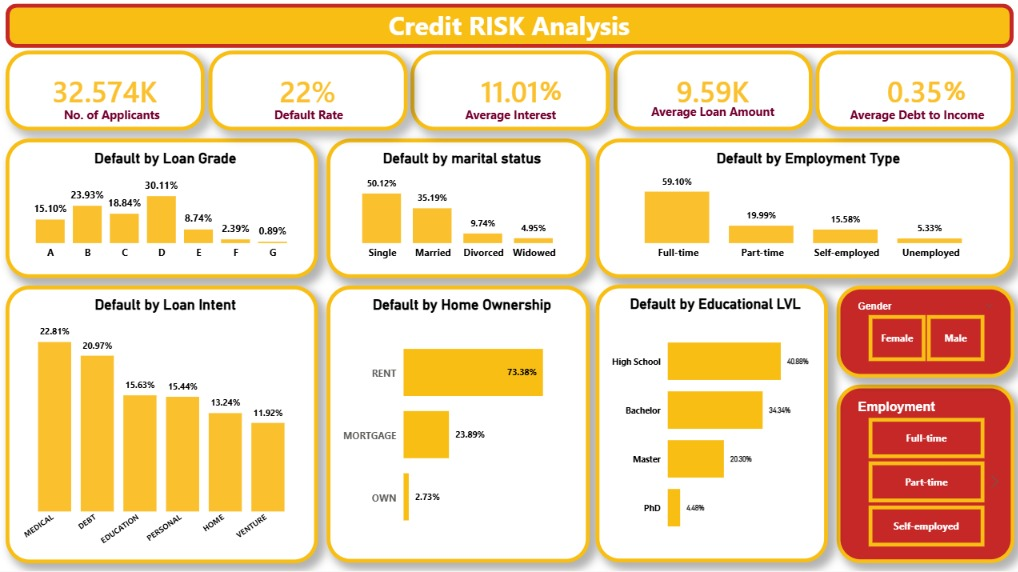

What the dashboard file says about the page in this screenshot:
{"tool":"powerbi","page":{"name":"Dashboard","canvas":[1280,720],"ordinal":0},"visuals":[{"type":"group","id":"g1","title":"Group 2","box":[1022.5,66.2,248.8,100],"z":0,"group":"g8"},{"type":"group","id":"g2","title":"Group 2","box":[10,66.4,249.1,100],"z":0},{"type":"group","id":"g3","title":"Group 2","box":[263.1,66.4,249.1,100],"z":0,"group":"g7"},{"type":"group","id":"g4","title":"Group 2","box":[516.2,66.4,249.1,100],"z":0,"group":"g6"},{"type":"cardVisual","fields":{"Data":["CreditRiskAT.Average Loan Amount"]},"box":[769.4,66.4,248.8,100],"z":0,"group":"g5"},{"type":"shape","box":[10,7.8,1260,55.6],"z":1000},{"type":"textbox","box":[800.9,127.3,185.5,31.8],"z":1000,"group":"g5"},{"type":"textbox","box":[455,8,369,55],"z":2000},{"type":"cardVisual","fields":{"Data":["Avg(CreditRiskAT.debt_to_income_ratio)"]},"box":[1022.5,66.2,248.8,100],"z":2000,"group":"g1"},{"type":"cardVisual","fields":{"Data":["Count(CreditRiskAT.client_ID)"]},"box":[10,66.4,248.8,100],"z":2000,"group":"g2"},{"type":"cardVisual","fields":{"Data":["CreditRiskAT.DefaultRate"]},"box":[263.1,66.4,248.8,100],"z":2000,"group":"g3"},{"type":"cardVisual","fields":{"Data":["Avg(CreditRiskAT.loan_int_rate)"]},"box":[516.2,66.4,248.8,100],"z":2000,"group":"g4"},{"type":"clusteredColumnChart","title":"Default by Loan Grade","fields":{"Category":["CreditRiskAT.loan_grade"],"Y":["CreditRiskAT.DefaultRate"]},"box":[10,176.7,390,174.4],"z":3000},{"type":"donutChart","title":"Repaid vs Defaulted","fields":{"Category":["CreditRiskAT.Loan Outcome"],"Y":["CountNonNull(CreditRiskAT.loan_status)"]},"box":[411.1,176.7,328.9,174.4],"z":4000},{"type":"textbox","box":[672.6,89.1,50.9,64.5],"z":5000,"group":"g6"},{"type":"columnChart","title":"Default by Loan Intent","fields":{"Category":["CreditRiskAT.loan_intent"],"Y":["CreditRiskAT.DefaultRate"]},"box":[10,360,390,347.1],"z":5000},{"type":"textbox","box":[1054.4,130.9,188.8,32.5],"z":5003,"group":"g1"},{"type":"textbox","box":[325.6,131.4,125,32.5],"z":5003,"group":"g3"},{"type":"textbox","box":[578.7,131.4,125,32.5],"z":5003,"group":"g4"},{"type":"textbox","box":[71,131.9,142.7,31.8],"z":5003,"group":"g2"},{"type":"barChart","title":"Default by Home Ownership","fields":{"Category":["CreditRiskAT.loan_intent"],"Y":["CreditRiskAT.DefaultRate"]},"box":[411.1,360,328.9,346.7],"z":6000},{"type":"group","id":"g5","title":"Group 3","box":[769.4,66.4,249.1,100],"z":7000},{"type":"textbox","box":[1177.3,89,43.6,64.5],"z":7000,"group":"g8"},{"type":"group","id":"g6","title":"Group 5","box":[516.2,66.4,249.1,100],"z":8000},{"type":"group","id":"g7","title":"Group 5","box":[263.1,66.4,249.1,100],"z":9000},{"type":"clusteredColumnChart","title":"Prior Default History","fields":{"Category":["CreditRiskAT.cb_person_default_on_file"],"Y":["CreditRiskAT.DefaultRate"]},"box":[748.1,176.5,521.4,174.9],"z":10000},{"type":"slicer","title":"Default by marital status","fields":{"Values":["CreditRiskAT.loan_grade"]},"box":[1037.9,511.7,242.9,205.6],"z":11000},{"type":"slicer","title":"Default by marital status","fields":{"Values":["CreditRiskAT.country"]},"box":[1037.9,351.4,242.9,160.3],"z":12000},{"type":"group","id":"g8","title":"Group 1","box":[1022.5,66.2,248.8,100],"z":13000},{"type":"clusteredColumnChart","title":"Average Loan Amount by Grade","fields":{"Category":["CreditRiskAT.loan_grade"],"Y":["Avg(CreditRiskAT.loan_amnt)"]},"box":[747.5,358.8,290,347.5],"z":14000}]}

Visuals, with their boxes in screenshot pixels (x1, y1, x2, y2), scaled from the page's 1280x720 canvas onto the 1018x572 screenshot:
"Group 2" group: <box>813,53,1011,132</box>
"Group 2" group: <box>8,53,206,132</box>
"Group 2" group: <box>209,53,407,132</box>
"Group 2" group: <box>411,53,609,132</box>
cardVisual - CreditRiskAT.Average Loan Amount: <box>612,53,810,132</box>
shape: <box>8,6,1010,50</box>
textbox: <box>637,101,784,126</box>
textbox: <box>362,6,655,50</box>
cardVisual - Avg(CreditRiskAT.debt_to_income_ratio): <box>813,53,1011,132</box>
cardVisual - Count(CreditRiskAT.client_ID): <box>8,53,206,132</box>
cardVisual - CreditRiskAT.DefaultRate: <box>209,53,407,132</box>
cardVisual - Avg(CreditRiskAT.loan_int_rate): <box>411,53,608,132</box>
"Default by Loan Grade" clusteredColumnChart: <box>8,140,318,279</box>
"Repaid vs Defaulted" donutChart: <box>327,140,589,279</box>
textbox: <box>535,71,575,122</box>
"Default by Loan Intent" columnChart: <box>8,286,318,562</box>
textbox: <box>839,104,989,130</box>
textbox: <box>259,104,358,130</box>
textbox: <box>460,104,560,130</box>
textbox: <box>56,105,170,130</box>
"Default by Home Ownership" barChart: <box>327,286,589,561</box>
"Group 3" group: <box>612,53,810,132</box>
textbox: <box>936,71,971,122</box>
"Group 5" group: <box>411,53,609,132</box>
"Group 5" group: <box>209,53,407,132</box>
"Prior Default History" clusteredColumnChart: <box>595,140,1010,279</box>
"Default by marital status" slicer: <box>825,407,1017,570</box>
"Default by marital status" slicer: <box>825,279,1017,407</box>
"Group 1" group: <box>813,53,1011,132</box>
"Average Loan Amount by Grade" clusteredColumnChart: <box>594,285,825,561</box>
